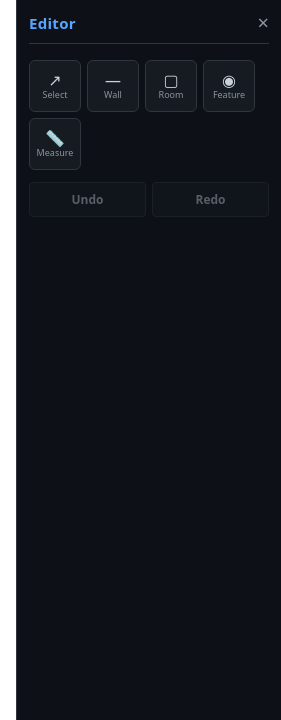
Test: InteriorEditor › shows room type selector when draw-room is active
Click the text "Room": point(171, 94) [158, 90, 183, 99]
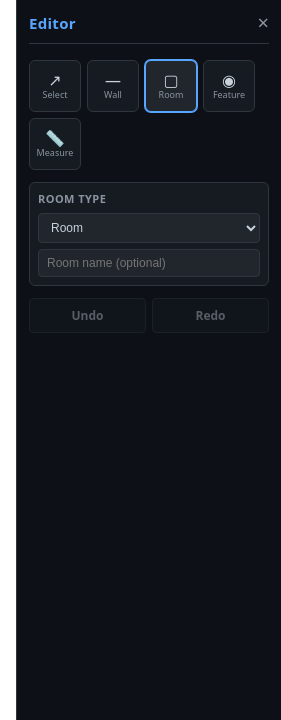
Check: the text "Room Type" is shown, box [38, 190, 106, 206]
